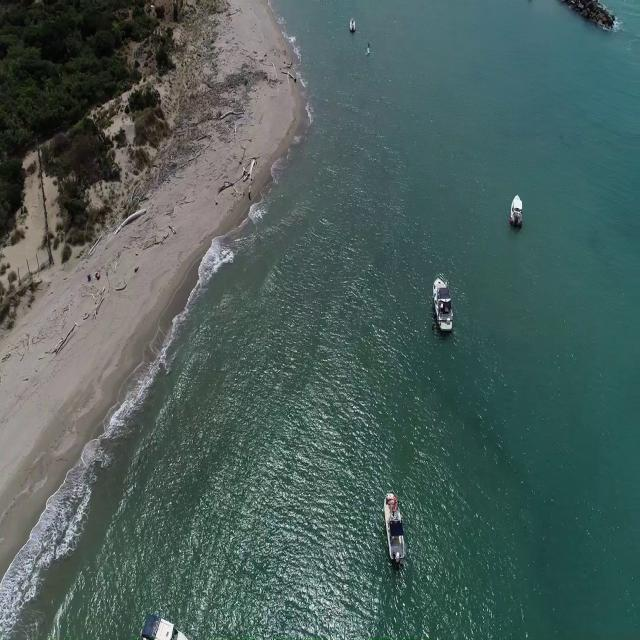boat: (384, 487, 406, 566), (432, 272, 455, 335), (143, 615, 188, 640), (510, 196, 524, 232), (347, 17, 356, 33)
person: (367, 39, 373, 51)
surfboard: (365, 47, 372, 60)
wood: (214, 157, 256, 203)
